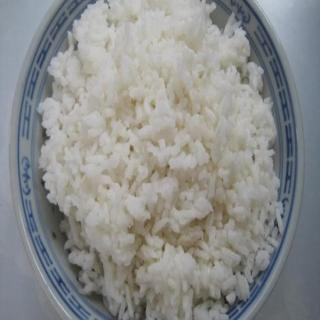Nasi: (37, 1, 285, 320)
